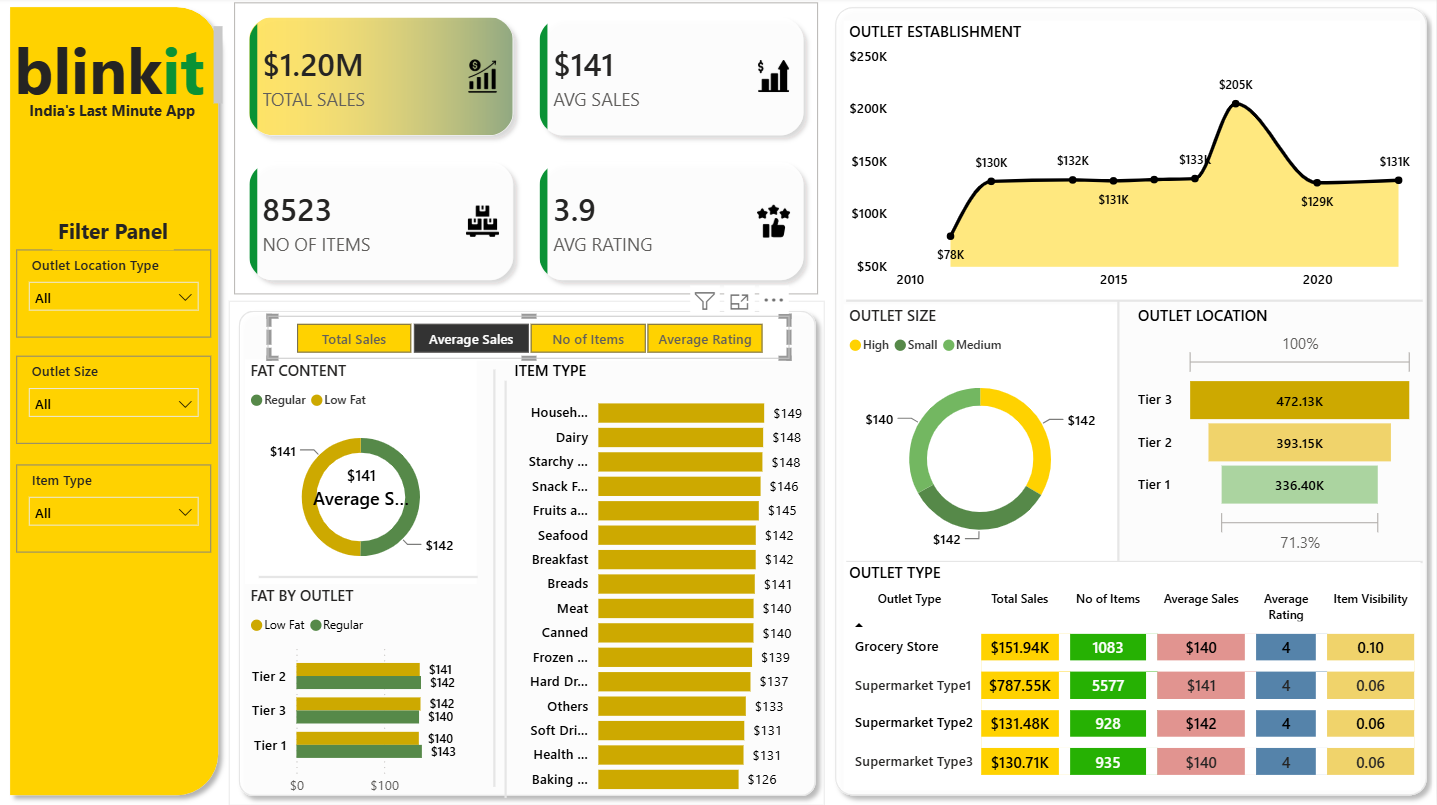

The page's visual inventory and layout, read from the dashboard file:
{"tool":"powerbi","page":{"name":"Page 1","canvas":[1280,720],"ordinal":0},"visuals":[{"type":"shape","box":[0,0,203.3,720],"z":0},{"type":"textbox","box":[8.3,21.7,195,81.7],"z":1000},{"type":"textbox","box":[21.7,86.7,160,31.7],"z":2000},{"type":"cardVisual","fields":{"Data":["BlinkIT Grocery Data.Total Sales","BlinkIT Grocery Data.Average Sales","BlinkIT Grocery Data.No of Items","BlinkIT Grocery Data.Average Rating"]},"box":[203.3,0,531.7,270],"z":3000},{"type":"shape","box":[203.3,270,531.7,450],"z":4000},{"type":"donutChart","title":"FAT CONTENT","fields":{"Y":["BlinkIT Grocery Data.Total Sales"],"Category":["BlinkIT Grocery Data.Item Fat Content"]},"box":[218.3,323.3,206.7,200],"z":5000},{"type":"slicer","fields":{"Values":["Metrics.Metrics"]},"box":[238.3,283.3,465,40],"z":6000},{"type":"cardVisual","fields":{"Data":["BlinkIT Grocery Data.Total Sales"]},"box":[253.3,398.3,136.7,76.7],"z":7000},{"type":"clusteredBarChart","title":"FAT BY OUTLET","fields":{"Y":["BlinkIT Grocery Data.Total Sales"],"Category":["BlinkIT Grocery Data.Outlet Location Type"],"Series":["BlinkIT Grocery Data.Item Fat Content"]},"box":[218.3,523.3,206.7,196.7],"z":8000},{"type":"shape","box":[230,510,195,13.3],"z":9000},{"type":"shape","box":[425,331.7,30,371.7],"z":10000},{"type":"barChart","title":"ITEM TYPE","fields":{"Y":["BlinkIT Grocery Data.Total Sales"],"Category":["BlinkIT Grocery Data.Item Type"]},"box":[453.3,323.3,266.7,396.7],"z":11000},{"type":"shape","box":[735,0,545,720],"z":12000},{"type":"lineChart","title":"OUTLET ESTABLISHMENT","fields":{"Category":["BlinkIT Grocery Data.Outlet Establishment Year"],"Y":["BlinkIT Grocery Data.Total Sales"]},"box":[751.7,21.7,513.3,248.3],"z":13000},{"type":"shape","box":[753.3,263.3,513.3,13.3],"z":14000},{"type":"donutChart","title":"OUTLET SIZE","fields":{"Y":["BlinkIT Grocery Data.Total Sales"],"Category":["BlinkIT Grocery Data.Outlet Size"]},"box":[751.7,273.3,243.3,230],"z":15000},{"type":"funnel","title":"OUTLET LOCATION","fields":{"Y":["Sum(BlinkIT Grocery Data.Sales)"],"Category":["BlinkIT Grocery Data.Outlet Location Type"]},"box":[1008.3,273.3,256.7,228.3],"z":16000},{"type":"shape","box":[435,341.7,30,371.7],"z":17000},{"type":"shape","box":[981.7,270,28.3,231.7],"z":18000},{"type":"shape","box":[753.3,496.7,513.3,13.3],"z":19000},{"type":"pivotTable","title":"OUTLET TYPE","fields":{"Rows":["BlinkIT Grocery Data.Outlet Type"],"Values":["BlinkIT Grocery Data.Total Sales","BlinkIT Grocery Data.No of Items","BlinkIT Grocery Data.Average Sales","BlinkIT Grocery Data.Average Rating","Avg(BlinkIT Grocery Data.Item Visibility)"]},"box":[751.7,503.3,513.3,203.3],"z":20000},{"type":"slicer","fields":{"Values":["BlinkIT Grocery Data.Outlet Location Type"]},"box":[15,225,173.3,78.3],"z":21000},{"type":"slicer","fields":{"Values":["BlinkIT Grocery Data.Outlet Size"]},"box":[15,320,173.3,78.3],"z":22000},{"type":"slicer","fields":{"Values":["BlinkIT Grocery Data.Item Type"]},"box":[15,416.7,173.3,78.3],"z":23000},{"type":"textbox","box":[46.7,190,108.3,35],"z":24000}]}

Visuals, with their boxes in screenshot pixels (x1, y1, x2, y2), scaled from the page's 1280x720 canvas onto the 1437x805 screenshot:
shape: (0,0,228,804)
textbox: (9,24,228,116)
textbox: (24,97,204,132)
cardVisual - BlinkIT Grocery Data.Total Sales x BlinkIT Grocery Data.Average Sales: (228,0,825,302)
shape: (228,302,825,804)
"FAT CONTENT" donutChart: (245,361,477,585)
slicer - Metrics.Metrics: (268,317,790,361)
cardVisual - BlinkIT Grocery Data.Total Sales: (284,445,438,531)
"FAT BY OUTLET" clusteredBarChart: (245,585,477,804)
shape: (258,570,477,585)
shape: (477,371,511,786)
"ITEM TYPE" barChart: (509,361,808,804)
shape: (825,0,1436,804)
"OUTLET ESTABLISHMENT" lineChart: (844,24,1420,302)
shape: (846,294,1422,309)
"OUTLET SIZE" donutChart: (844,306,1117,563)
"OUTLET LOCATION" funnel: (1132,306,1420,561)
shape: (488,382,522,798)
shape: (1102,302,1134,561)
shape: (846,555,1422,570)
"OUTLET TYPE" pivotTable: (844,563,1420,790)
slicer - BlinkIT Grocery Data.Outlet Location Type: (17,252,211,339)
slicer - BlinkIT Grocery Data.Outlet Size: (17,358,211,445)
slicer - BlinkIT Grocery Data.Item Type: (17,466,211,553)
textbox: (52,212,174,252)
